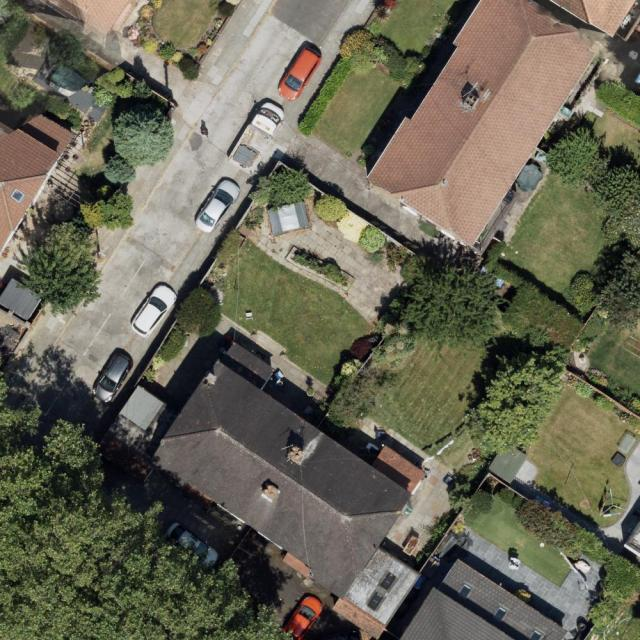roof: (149, 341, 568, 640), (366, 0, 602, 249), (0, 113, 76, 260), (44, 0, 135, 42), (549, 0, 637, 38)
skylight: (379, 570, 397, 593), (366, 590, 384, 611), (490, 605, 509, 624), (10, 185, 26, 203), (455, 583, 471, 600), (528, 628, 546, 639)
